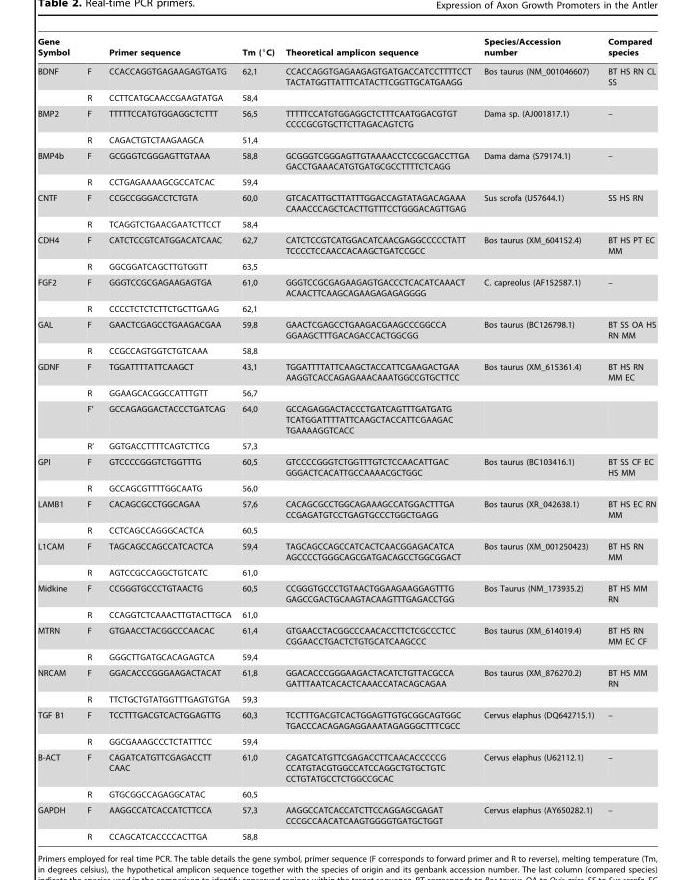table: (37, 37, 655, 840)
table column: (279, 37, 476, 840), (100, 37, 236, 840), (476, 37, 600, 840), (600, 37, 655, 840), (236, 37, 279, 840), (37, 37, 77, 840), (77, 37, 100, 840)
table column header: (37, 37, 655, 62)
table row: (37, 400, 655, 438), (37, 749, 655, 786), (37, 62, 655, 89), (37, 105, 655, 132), (37, 147, 655, 174), (37, 189, 655, 216), (37, 316, 655, 343), (37, 358, 655, 385), (37, 453, 655, 480), (37, 622, 655, 649), (37, 664, 655, 691), (37, 232, 655, 258), (37, 274, 655, 300), (37, 496, 655, 522), (37, 538, 655, 564), (37, 580, 655, 606), (37, 707, 655, 733), (37, 802, 655, 828), (37, 37, 655, 62), (37, 89, 655, 105), (37, 216, 655, 232), (37, 258, 655, 274), (37, 300, 655, 316), (37, 480, 655, 496), (37, 522, 655, 538), (37, 564, 655, 580), (37, 606, 655, 622), (37, 691, 655, 707), (37, 733, 655, 749), (37, 786, 655, 802), (37, 132, 655, 147), (37, 174, 655, 189), (37, 343, 655, 358), (37, 385, 655, 400), (37, 438, 655, 453), (37, 649, 655, 664), (37, 828, 655, 840)
table spanning cell: (37, 358, 77, 453), (37, 749, 77, 802), (37, 62, 77, 105), (37, 189, 77, 232), (37, 453, 77, 496), (37, 664, 77, 707), (37, 105, 77, 147), (37, 147, 77, 189), (37, 232, 77, 274), (37, 274, 77, 316), (37, 316, 77, 358), (37, 496, 77, 538), (37, 538, 77, 580), (37, 580, 77, 622), (37, 622, 77, 664), (37, 707, 77, 749), (37, 802, 77, 840)
